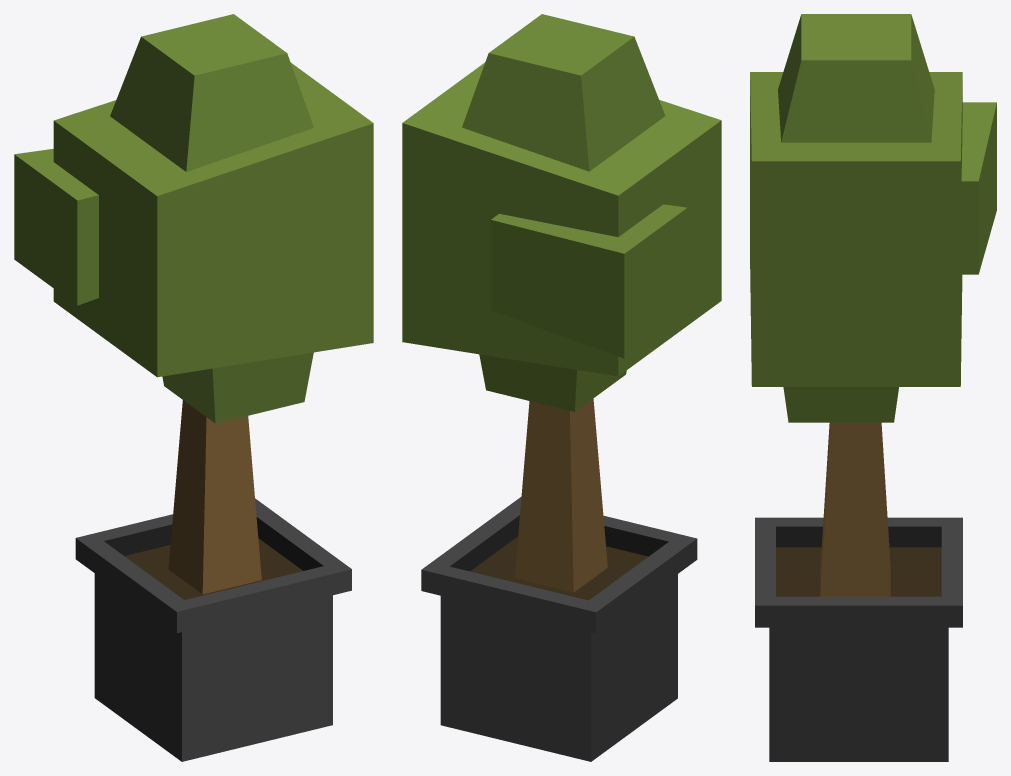
Rendered from Plant3.FBX.
The picture shows the model from 3 angles, left to right: view 1: azimuth 30°, elevation 25°; view 2: azimuth 150°, elevation 25°; view 3: azimuth 270°, elevation 25°; orthographic projection. The views are drawn at different scales.
Parts seen in each view (by area): view 1: SM_Plant_03; view 2: SM_Plant_03; view 3: SM_Plant_03.
Boxes of the visible parts, x1=… form: SM_Plant_03: x1=14, y1=14, x2=373, y2=761; SM_Plant_03: x1=402, y1=14, x2=721, y2=761; SM_Plant_03: x1=750, y1=14, x2=996, y2=761.
Bounding box in the file's own units: 25.17 × 66.86 × 21.8.
